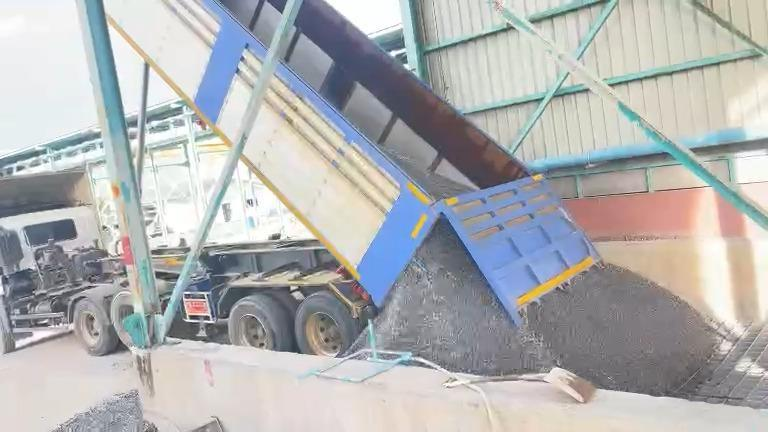gravel: (374, 220, 721, 394), (385, 150, 475, 197), (50, 390, 144, 431)
